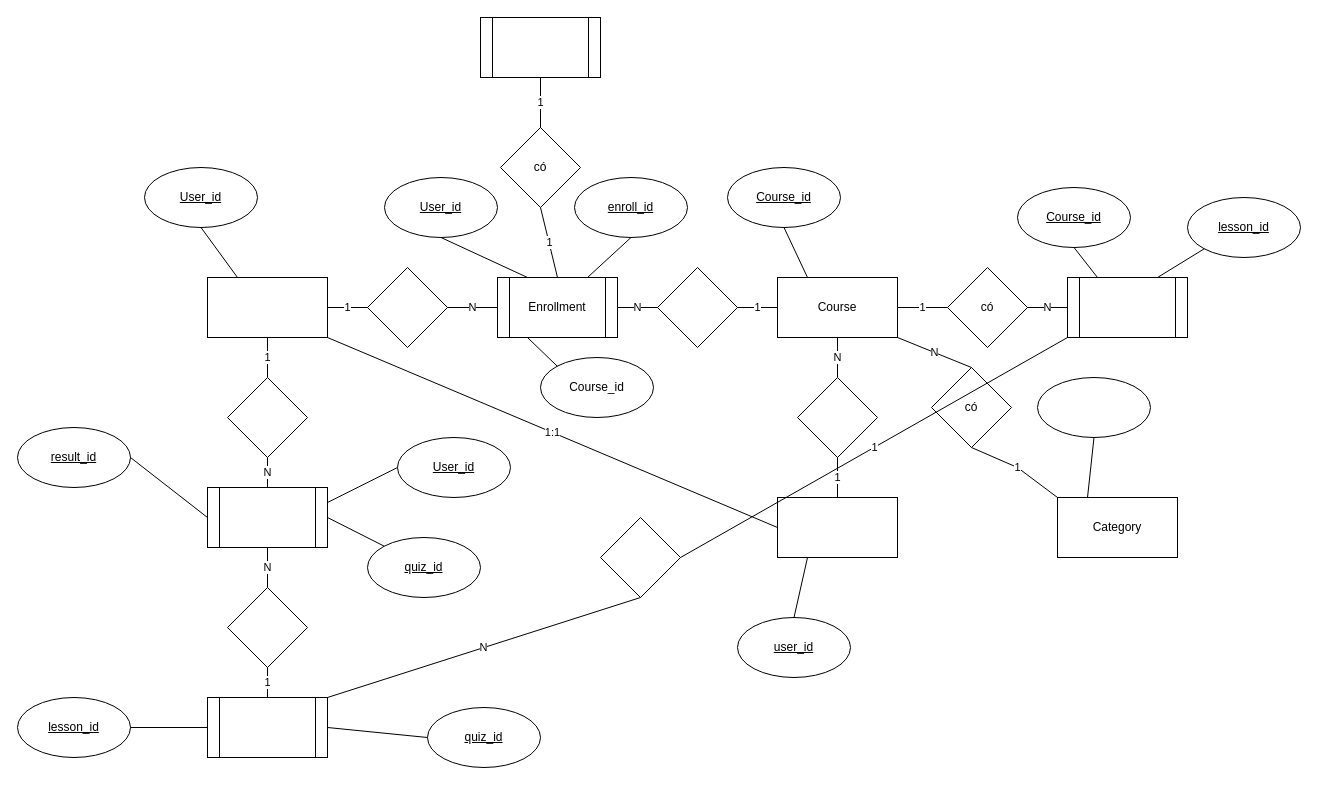
This 1318x785 diagram has some shape labels left out. Here are the shapes that lost their labels. From the top down, the box of each, then its label:
(480, 16, 600, 78): Payment
(206, 276, 328, 338): User
(366, 266, 448, 348): đăng ký
(1066, 276, 1188, 338): Lesson
(796, 376, 878, 458): dạy
(1036, 376, 1150, 438): Category_id
(206, 486, 328, 548): Result
(776, 496, 898, 558): Instructor
(206, 696, 328, 758): Quiz
